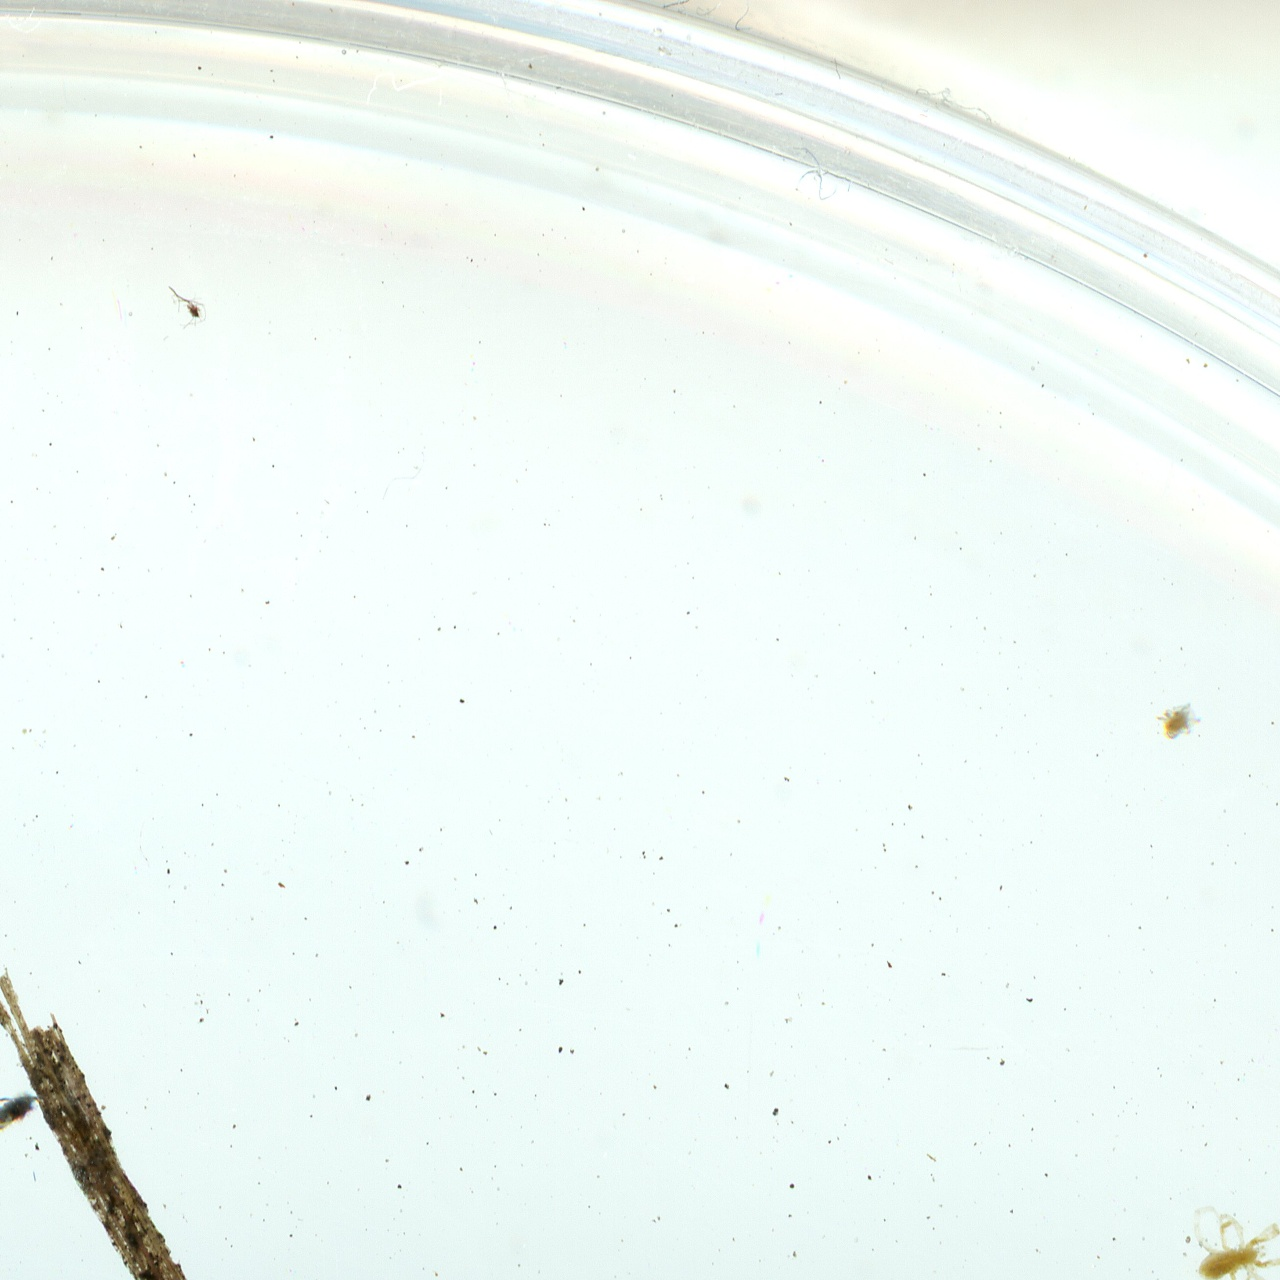arthropod: (1176, 1201, 1280, 1280), (1153, 696, 1205, 745), (0, 1084, 40, 1135)
